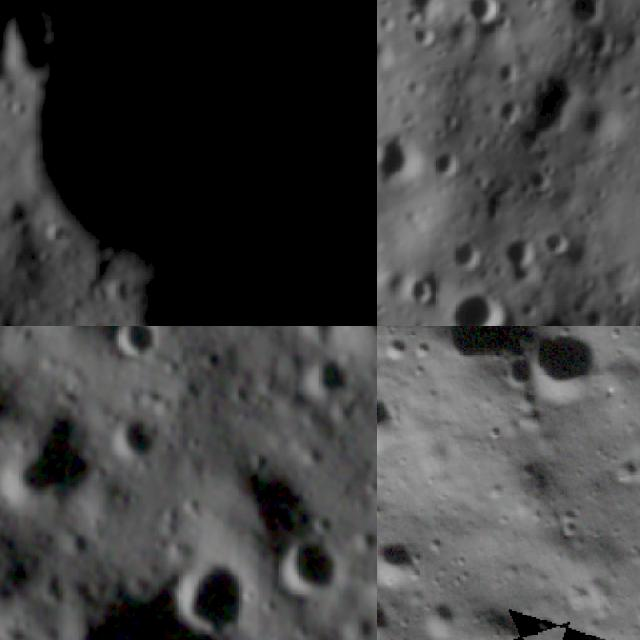crater: (26, 571, 272, 640), (0, 394, 119, 536), (163, 540, 263, 640), (259, 521, 355, 620), (521, 326, 610, 407), (421, 326, 540, 380), (286, 344, 360, 416), (102, 405, 169, 476), (523, 77, 586, 134), (102, 326, 175, 375), (377, 527, 428, 587), (377, 128, 426, 180), (448, 287, 502, 326), (377, 379, 402, 463), (495, 355, 536, 396), (496, 239, 536, 281), (284, 326, 343, 353), (377, 575, 401, 640), (431, 145, 466, 181), (403, 276, 436, 312), (576, 27, 610, 56), (523, 165, 559, 192), (400, 21, 437, 47), (538, 227, 568, 258), (530, 310, 585, 326), (452, 239, 478, 272), (491, 56, 520, 85), (463, 0, 499, 23), (561, 0, 607, 16), (377, 252, 395, 292), (492, 100, 518, 123), (377, 32, 394, 66), (405, 0, 434, 17)
